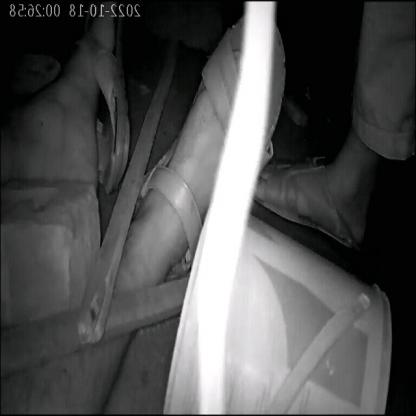leg: (131, 8, 289, 268), (15, 4, 133, 196), (244, 124, 386, 264)
